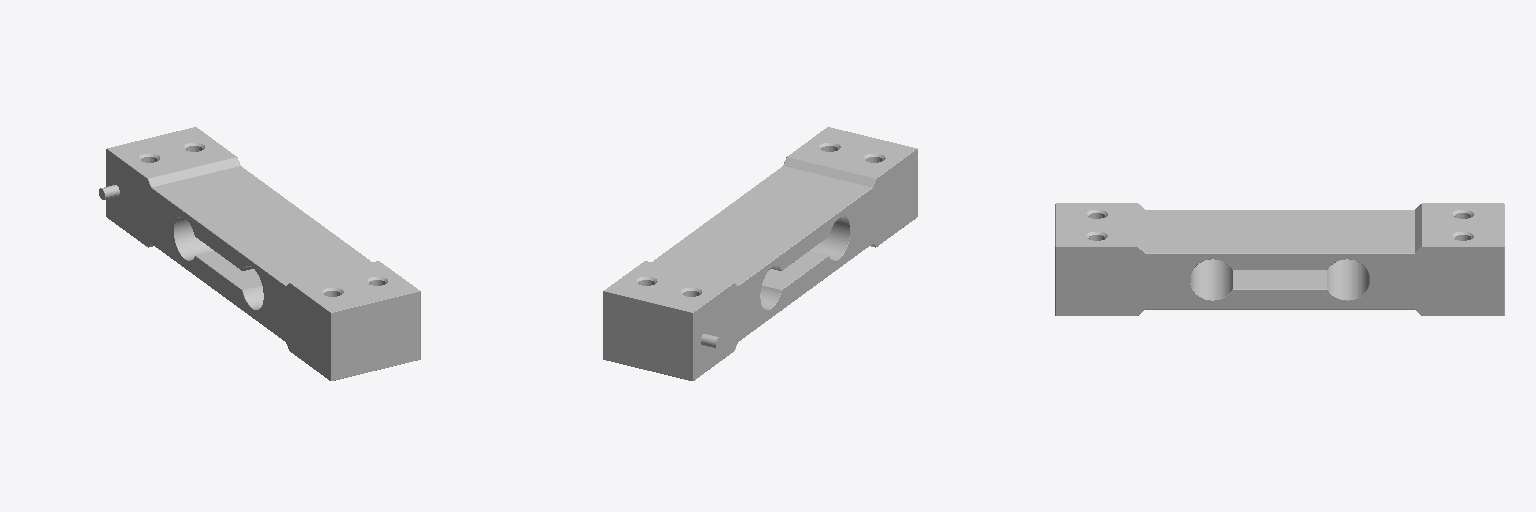
The model's file is gauge.obj.
3 views of the same model, side by side, from view 1: azimuth 30°, elevation 25°; view 2: azimuth 150°, elevation 25°; view 3: azimuth 270°, elevation 25° (orthographic).
Parts seen in each view (by area): view 1: obj1; view 2: obj1; view 3: obj1.
Part boxes in pixels (bbox=[...]): obj1: bbox=[99, 127, 420, 380]; obj1: bbox=[603, 127, 917, 380]; obj1: bbox=[1055, 203, 1504, 315].
Size of the model in its own units: 35 by 22 by 130.